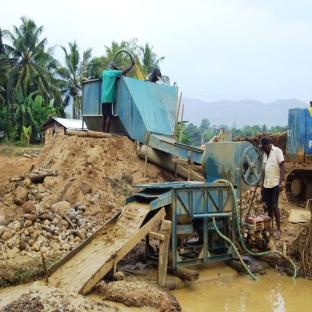Person: (257, 134, 285, 235), (101, 56, 124, 131)
ProcessingEquipment: (112, 136, 267, 282), (78, 47, 203, 168), (246, 212, 272, 255)
